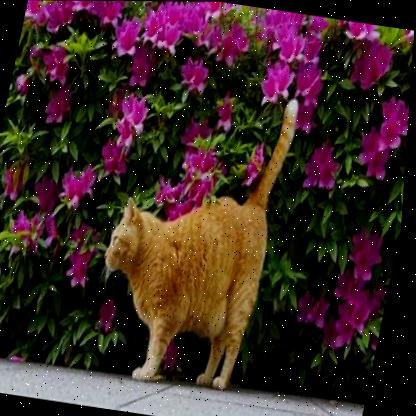cat: (90, 193, 269, 344)
